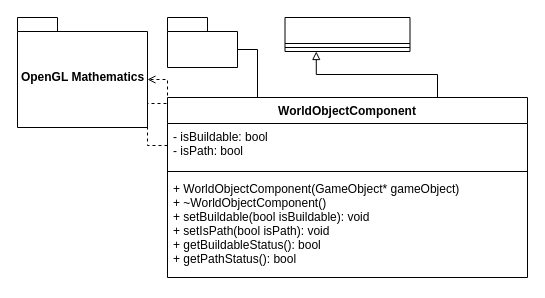
Some shapes in this 545 by 298 pixel diagram are drawn without their labels. Each missing label, with the centre of its shape:
Component: point (347, 34)
IMGui: point (202, 42)
